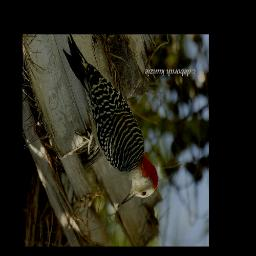Woodpecker: (61, 35, 161, 206)
